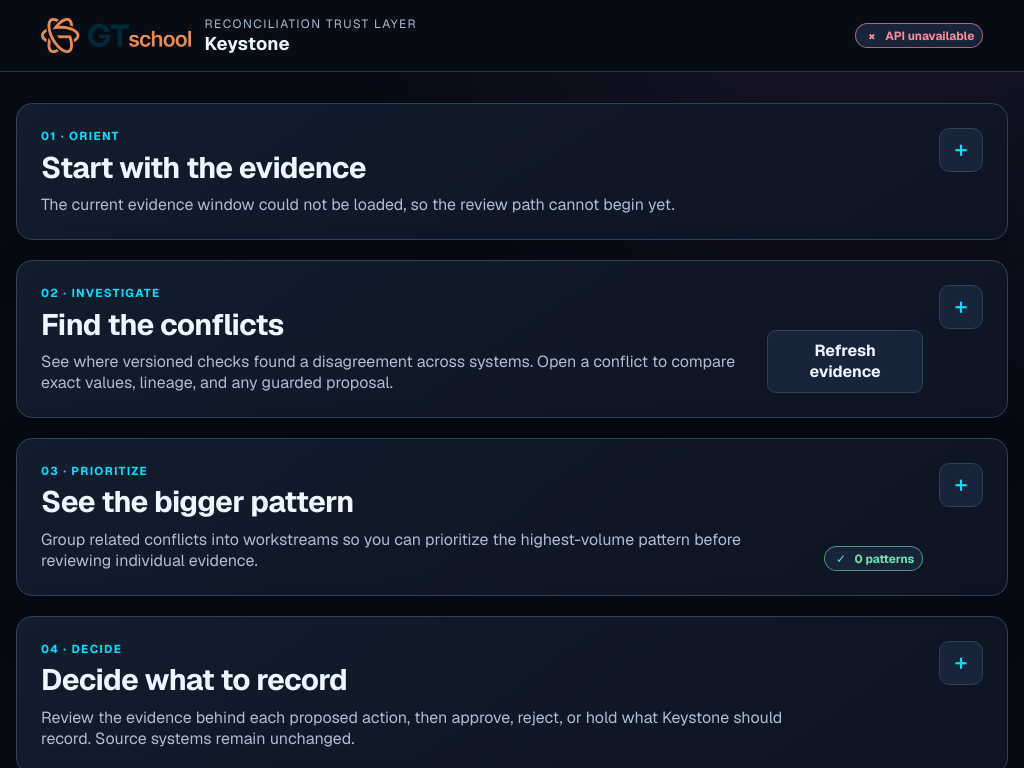
Test: overview failure and retry › renders a request-correlated API error
The image size is (1024, 768).
Click the button named "Expand Start with the evidence": (961, 150) 939,128 -> 983,172
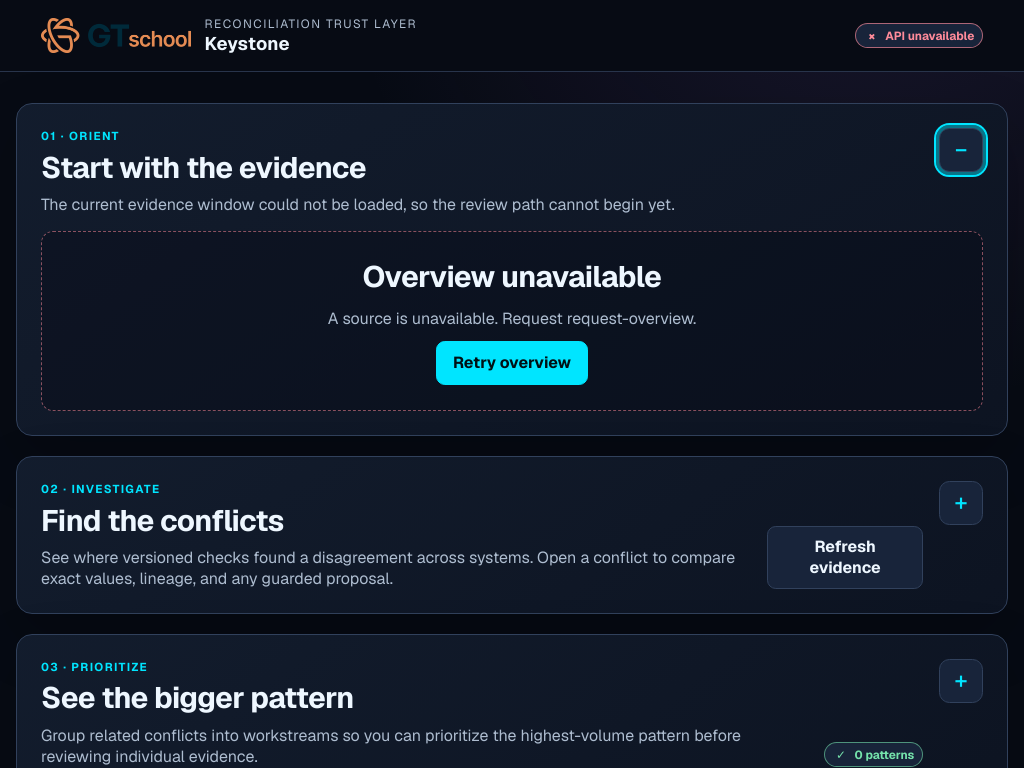
Expected: the text "API unavailable" is shown, 885,28 -> 974,43
Now the heading "Overview unavailable" is shown, box 363,257 -> 661,296
Now the text "A source is unavailable. Request request-overview." is shown, box 328,308 -> 696,329
